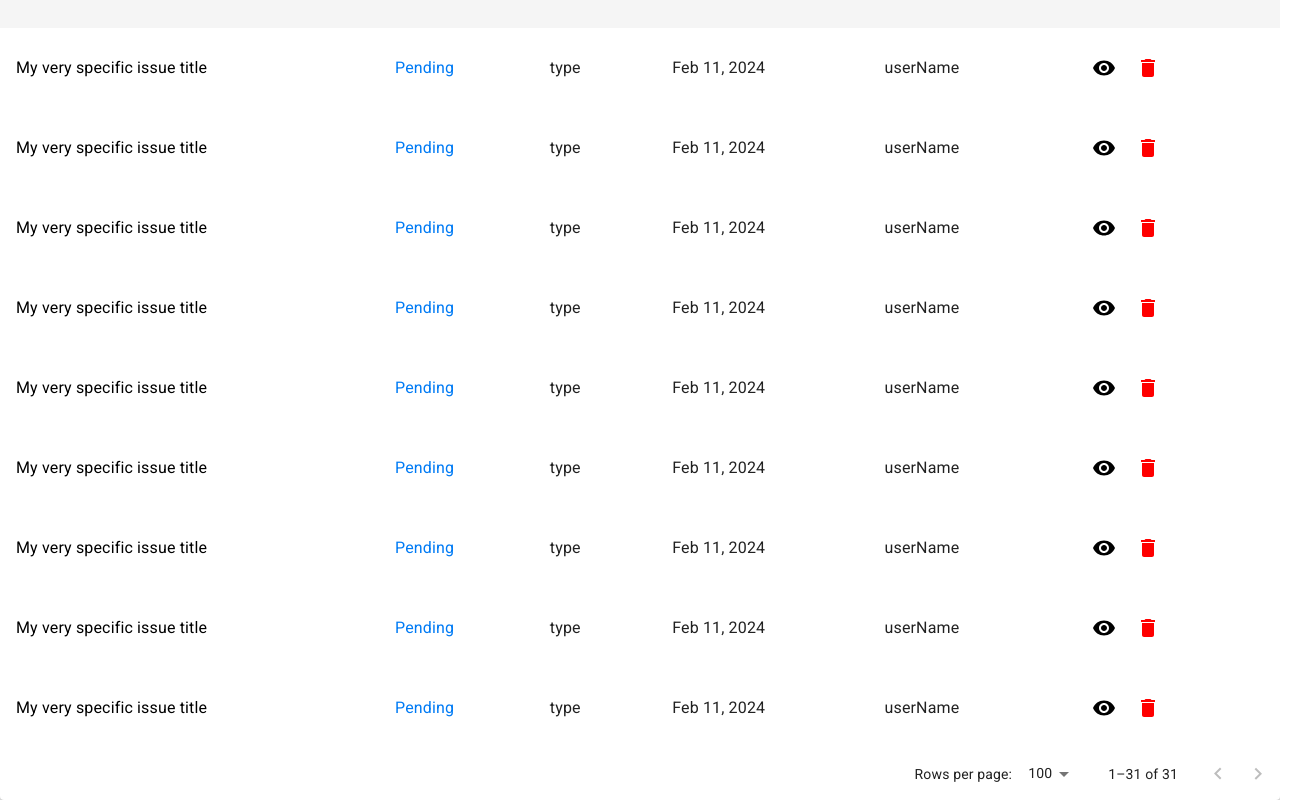
Test: IssuesTable › when paginating › should be able to change pages
(page scrolled)
// we click on the rows per page dropdown
Click the dropdown named "Rows per page:": (1040,773) [1028,765,1052,781]
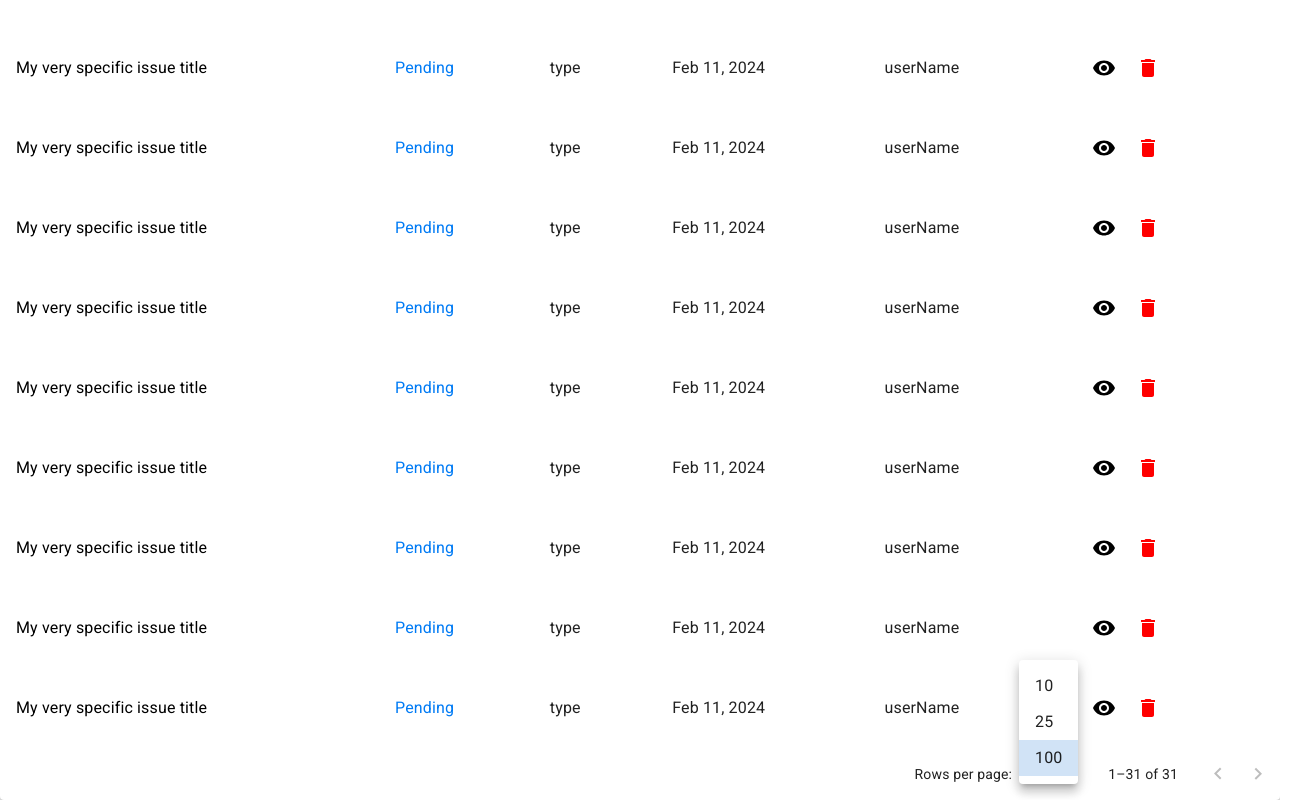
// and update the value to 25 rows
Click the option "25": (1044,722) [1035,712,1053,731]
(page scrolled)
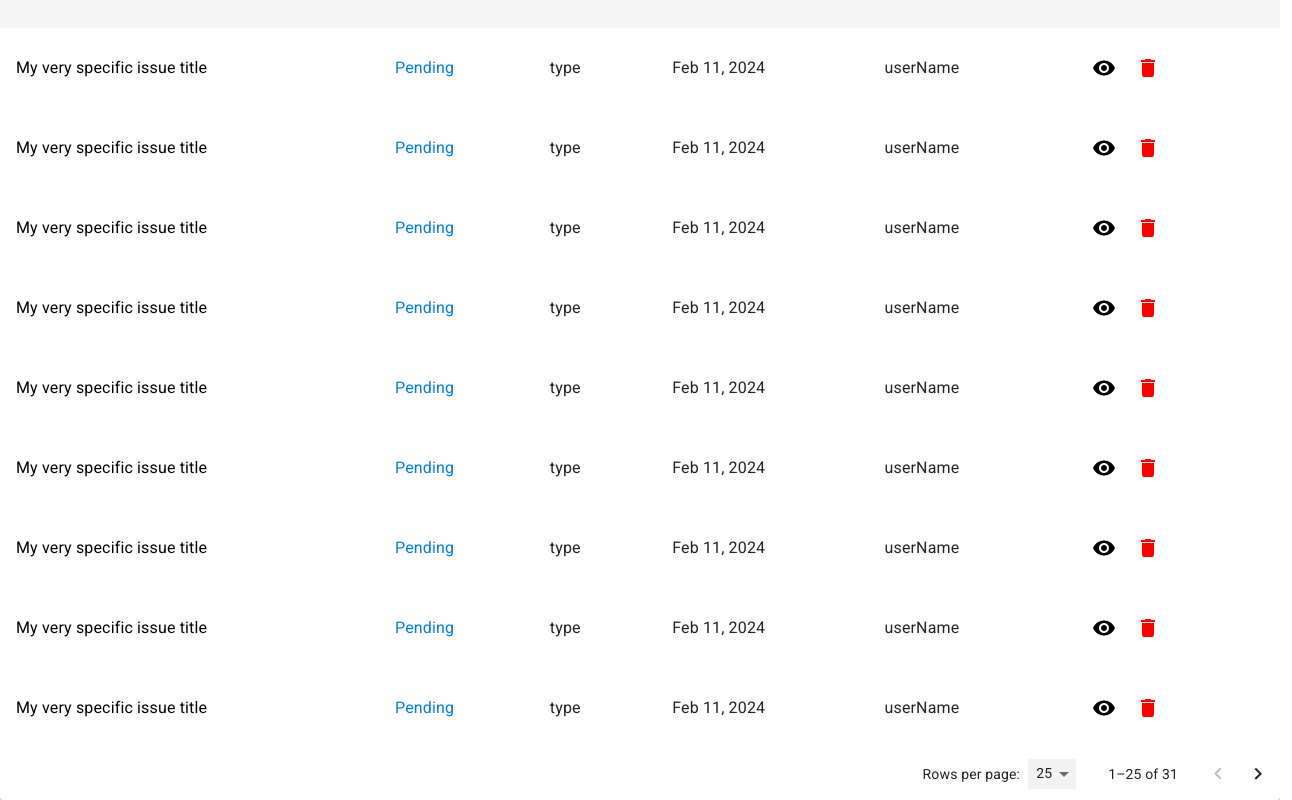
// we then click on the button to show the next page
Click the button with test id "KeyboardArrowRightIcon": (1258,774) [1238,754,1278,794]
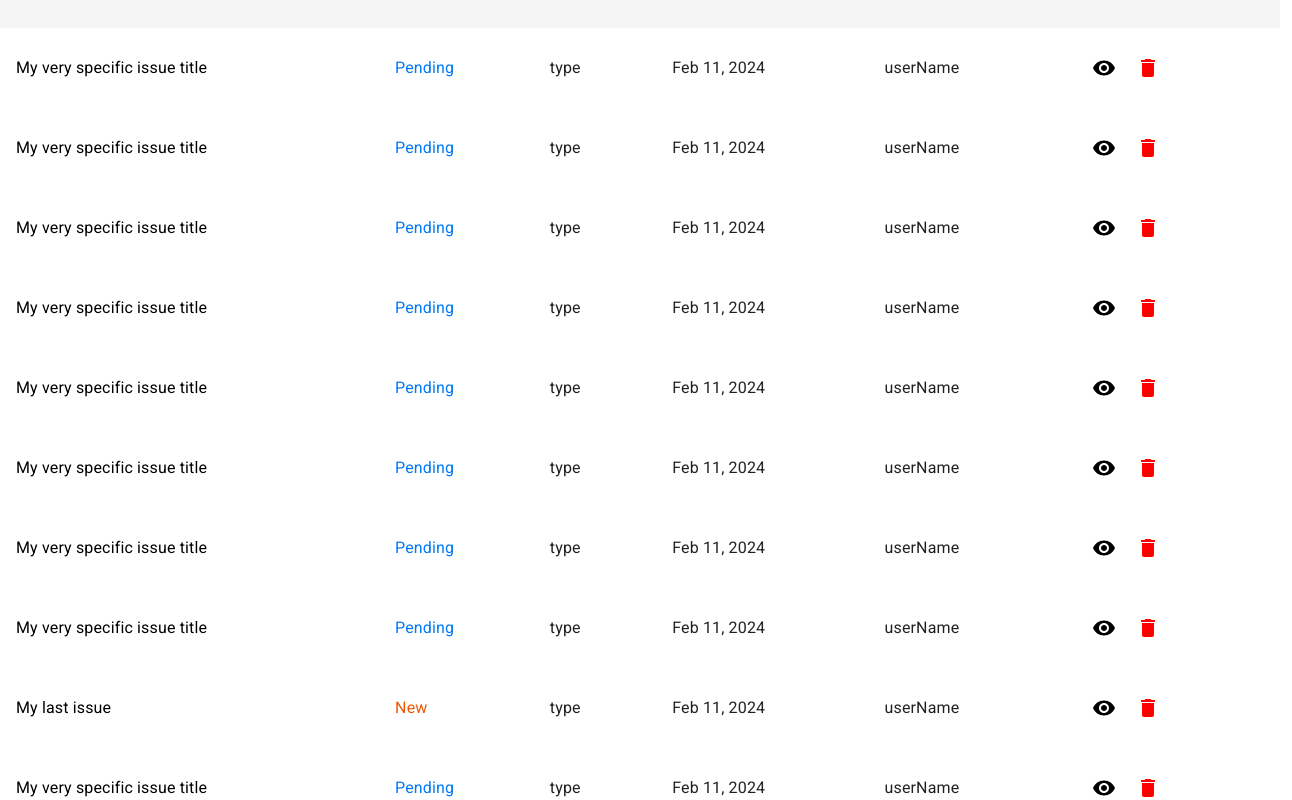
Expected: the text "My last issue" is shown, [16,698,111,717]
